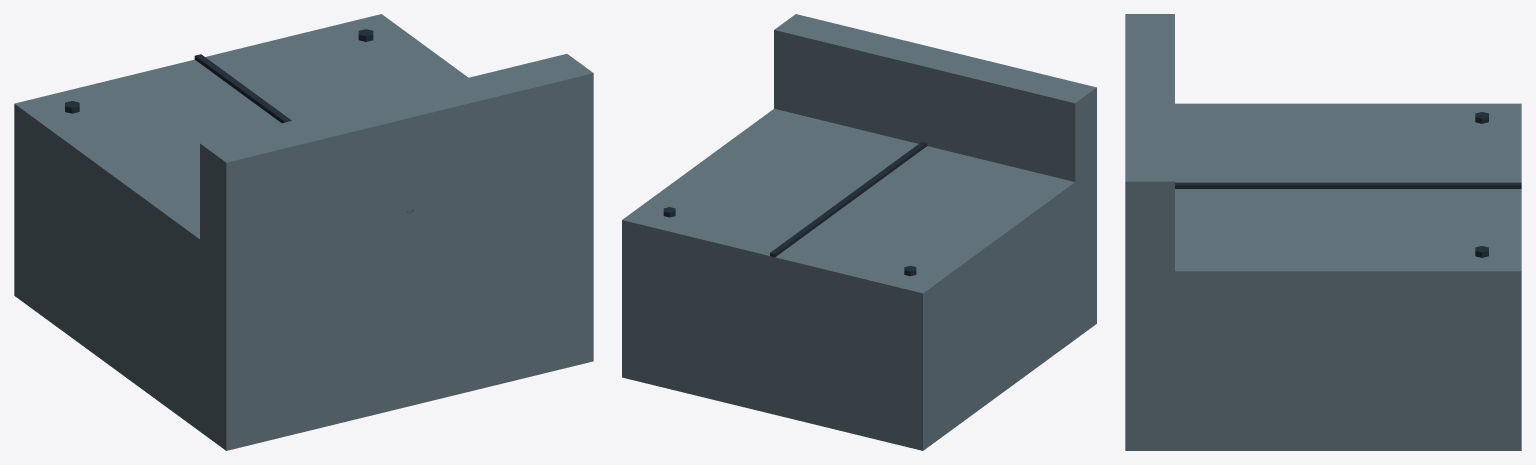
Rendered from terrain-metal-edge.lod0.glb.
3 views of the same model, side by side, from view 1: azimuth 30°, elevation 25°; view 2: azimuth 150°, elevation 25°; view 3: azimuth 270°, elevation 25° (orthographic). The views are drawn at different scales.
Parts seen in each view (by area): view 1: terrain-metal-edge__body; view 2: terrain-metal-edge__body; view 3: terrain-metal-edge__body.
Part boxes in pixels (left/top/right/bottom): terrain-metal-edge__body: left=14, top=14, right=593, bottom=450; terrain-metal-edge__body: left=622, top=14, right=1096, bottom=450; terrain-metal-edge__body: left=1125, top=14, right=1521, bottom=450.
Size of the model in its own units: 2 by 1.5 by 2.
